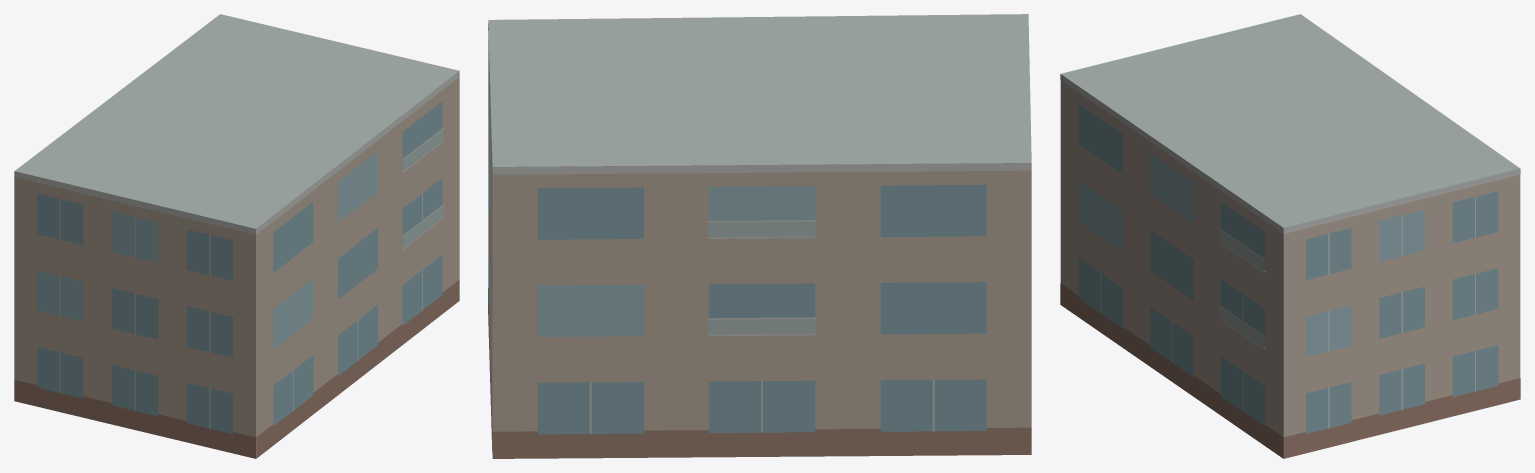
File: survey-upis-33014034.glb
3 views of the same model, side by side, from view 1: azimuth 30°, elevation 25°; view 2: azimuth 150°, elevation 25°; view 3: azimuth 270°, elevation 25° (orthographic). The views are drawn at different scales.
Parts seen in each view (by area): view 1: survey-upis-33014034.tmp; view 2: survey-upis-33014034.tmp; view 3: survey-upis-33014034.tmp.
Part boxes in pixels (box(x1,y1,x2,y2)): survey-upis-33014034.tmp: box(14, 14, 459, 458); survey-upis-33014034.tmp: box(488, 14, 1031, 458); survey-upis-33014034.tmp: box(1060, 14, 1520, 458).
Size of the model in its own units: 18.19 by 9.15 by 16.53.
